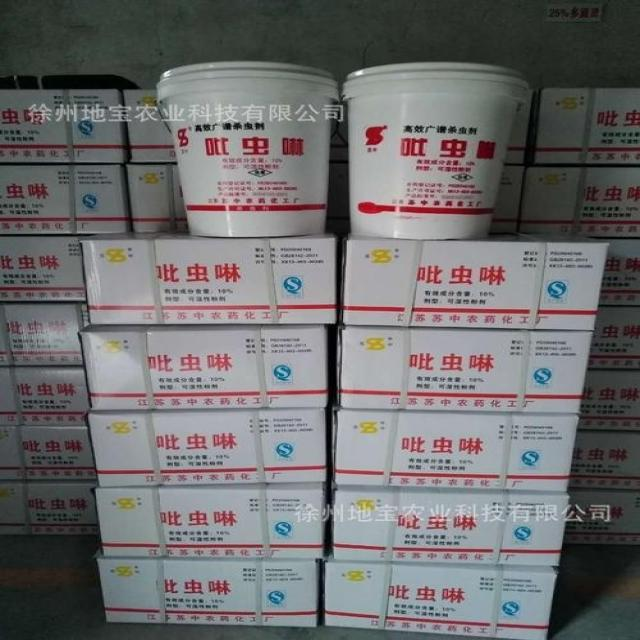box: (341, 238, 611, 332), (80, 236, 337, 325), (337, 327, 592, 415), (77, 325, 326, 413), (331, 409, 578, 491), (333, 486, 568, 566), (86, 408, 326, 486), (324, 560, 556, 639), (95, 482, 323, 558), (97, 557, 322, 627), (0, 163, 129, 237), (0, 90, 127, 164), (519, 164, 639, 238), (528, 88, 639, 167), (0, 233, 88, 304), (0, 300, 89, 367), (0, 367, 91, 427), (0, 426, 97, 481), (0, 481, 98, 534), (118, 89, 180, 163), (127, 162, 190, 234), (567, 431, 639, 490), (562, 488, 639, 543), (578, 371, 639, 433), (587, 306, 639, 369), (599, 239, 639, 307)
